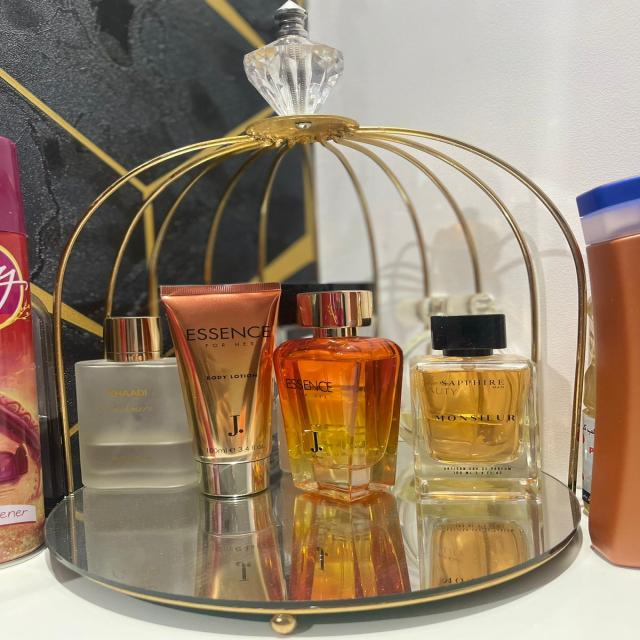foundation: (162, 283, 286, 499)
perfume: (59, 298, 206, 508)
setting spray: (297, 275, 550, 507)
